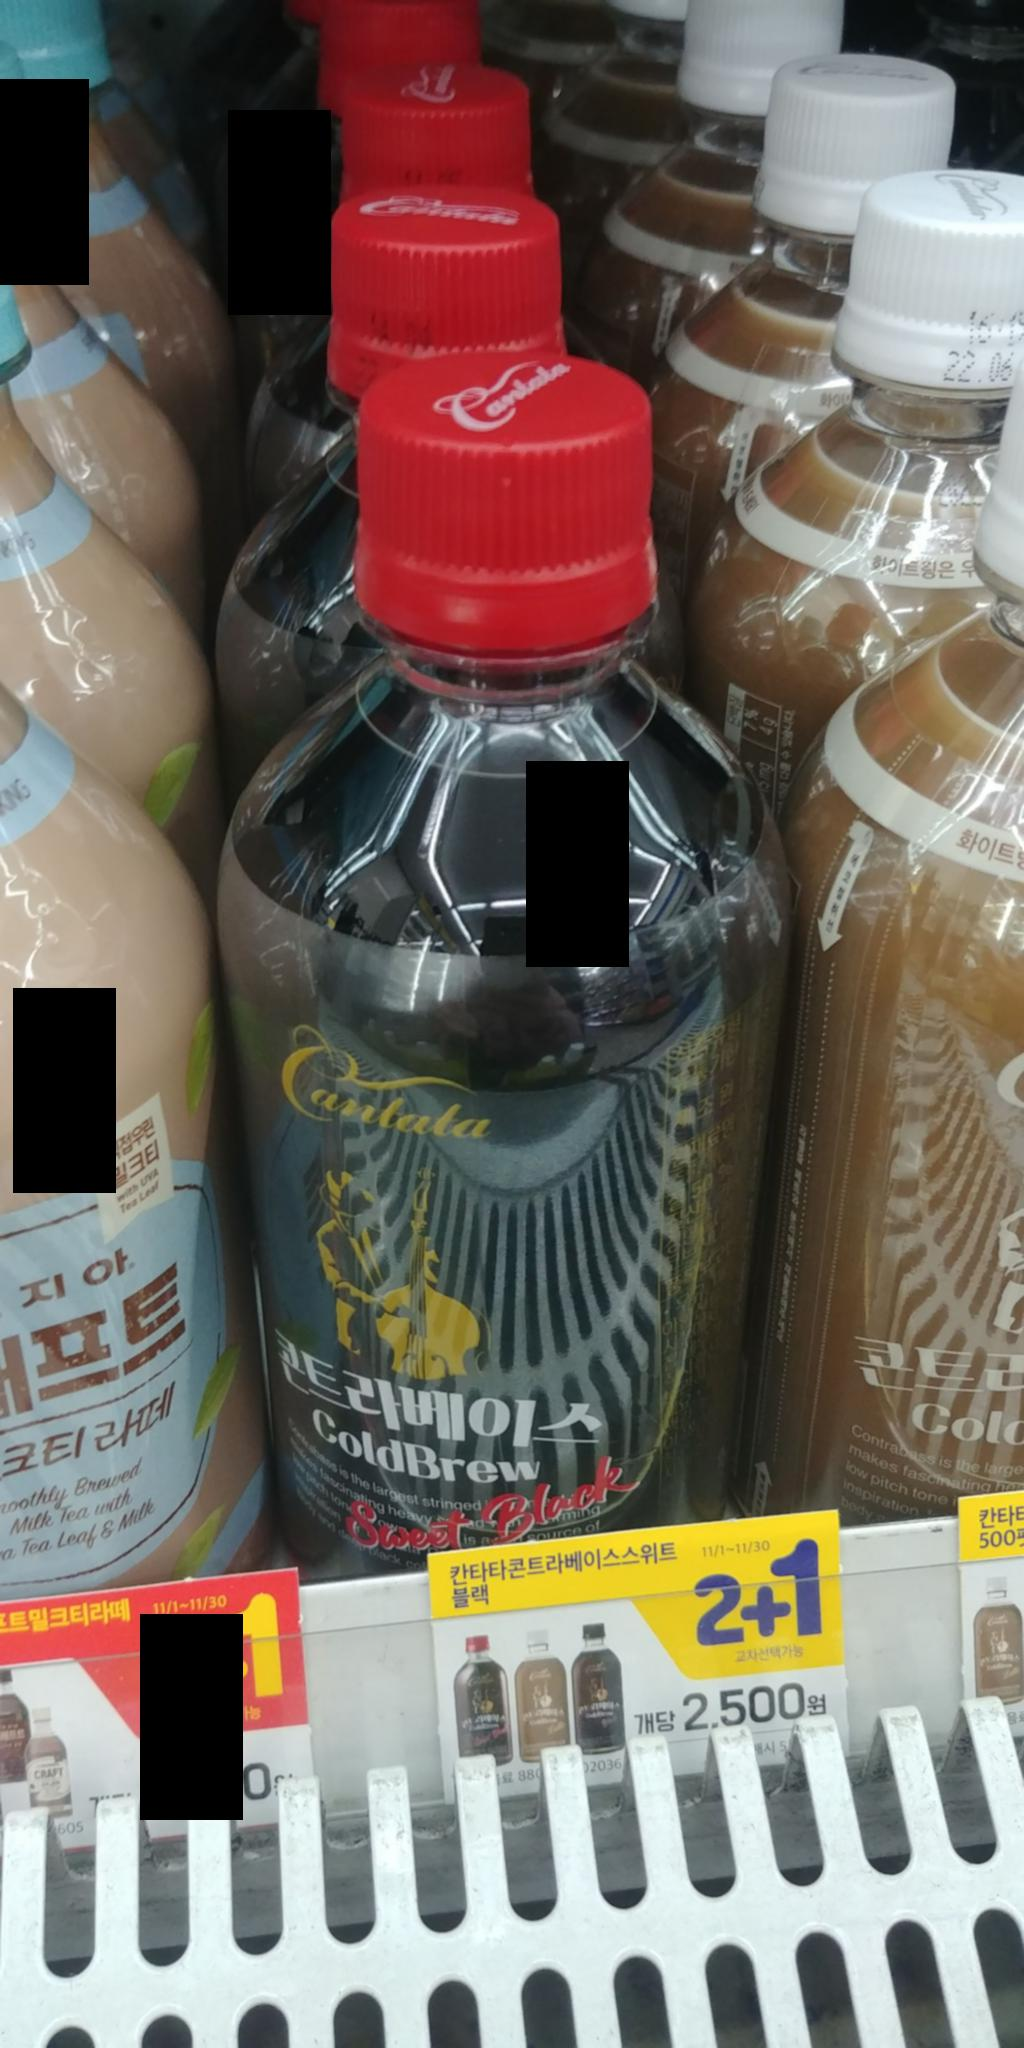contrabass_sweetblack: (210, 334, 777, 1586)
